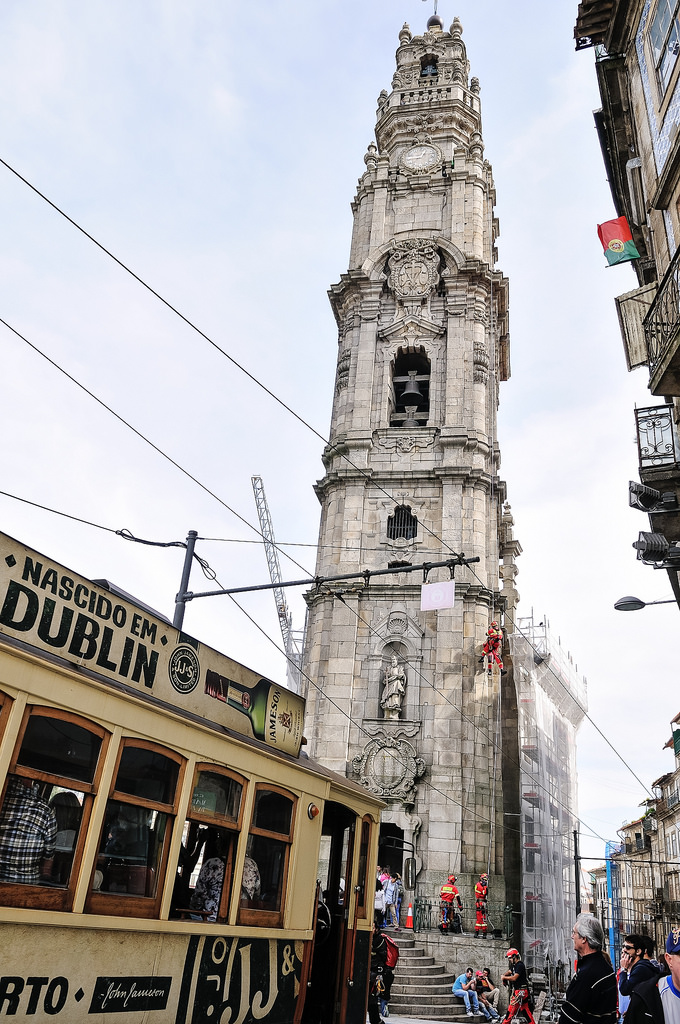clerigos: (287, 0, 526, 940)
